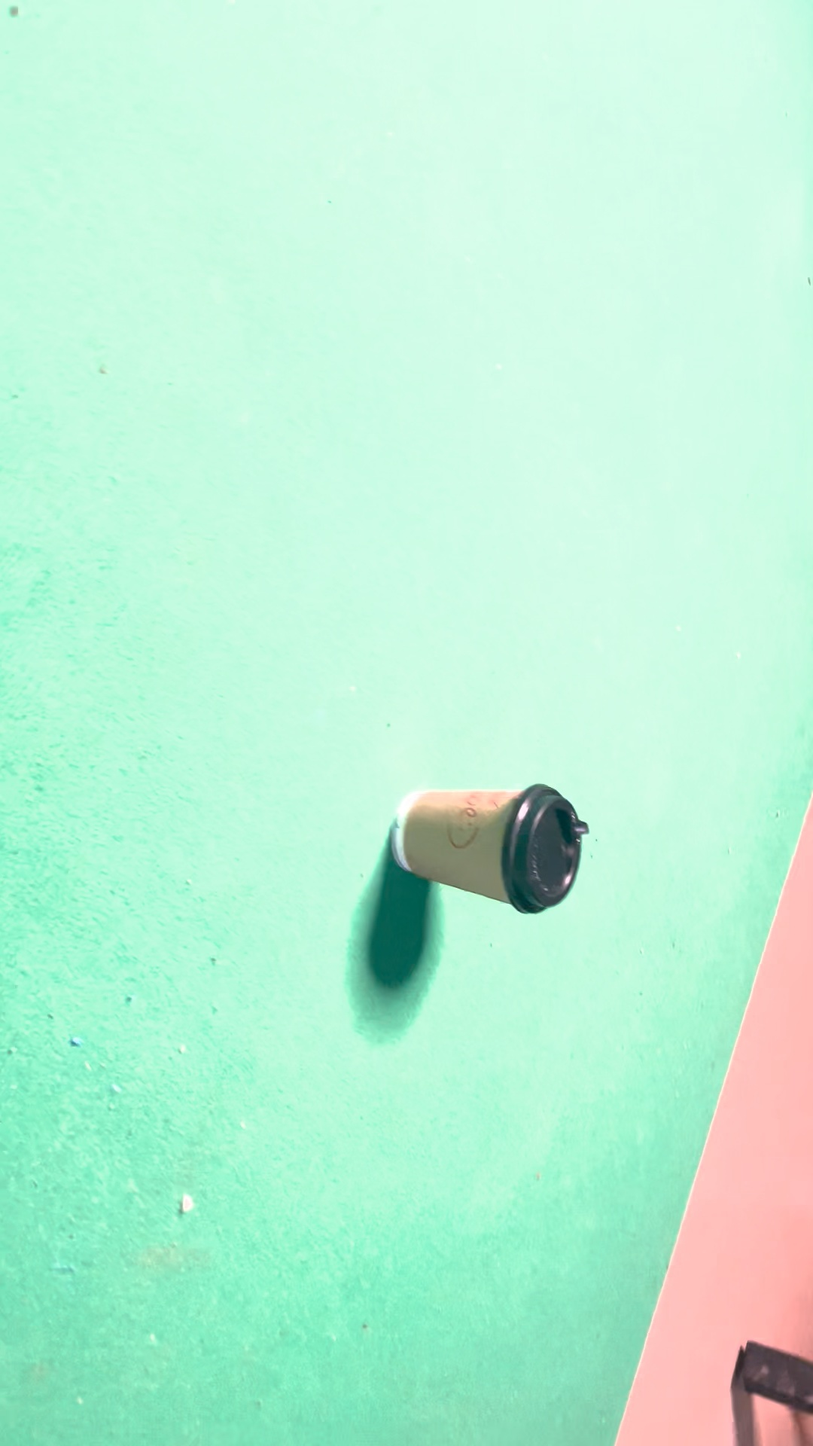cup: (393, 777, 465, 1109)
